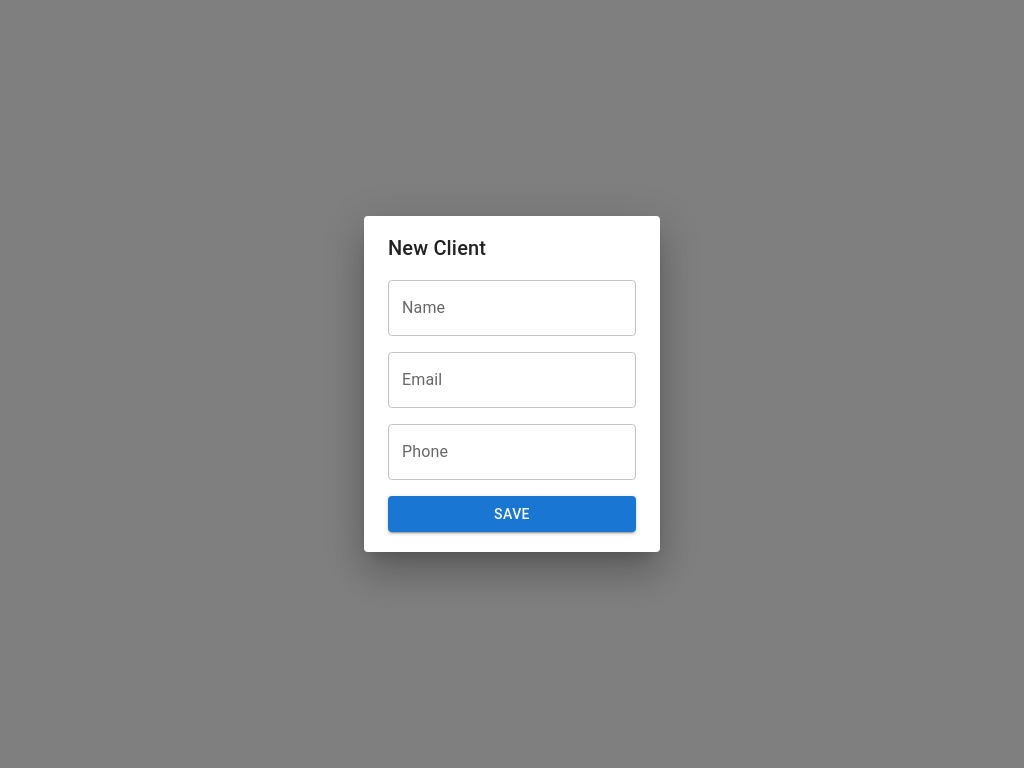
Test case: CreateClientDialog › surfaces an error when the create request fails
The image size is (1024, 768).
Type "Acme Farms" into the field labelled "Name".
click(512, 308); type("Acme Farms")  # box x1=388 y1=280 x2=636 y2=336
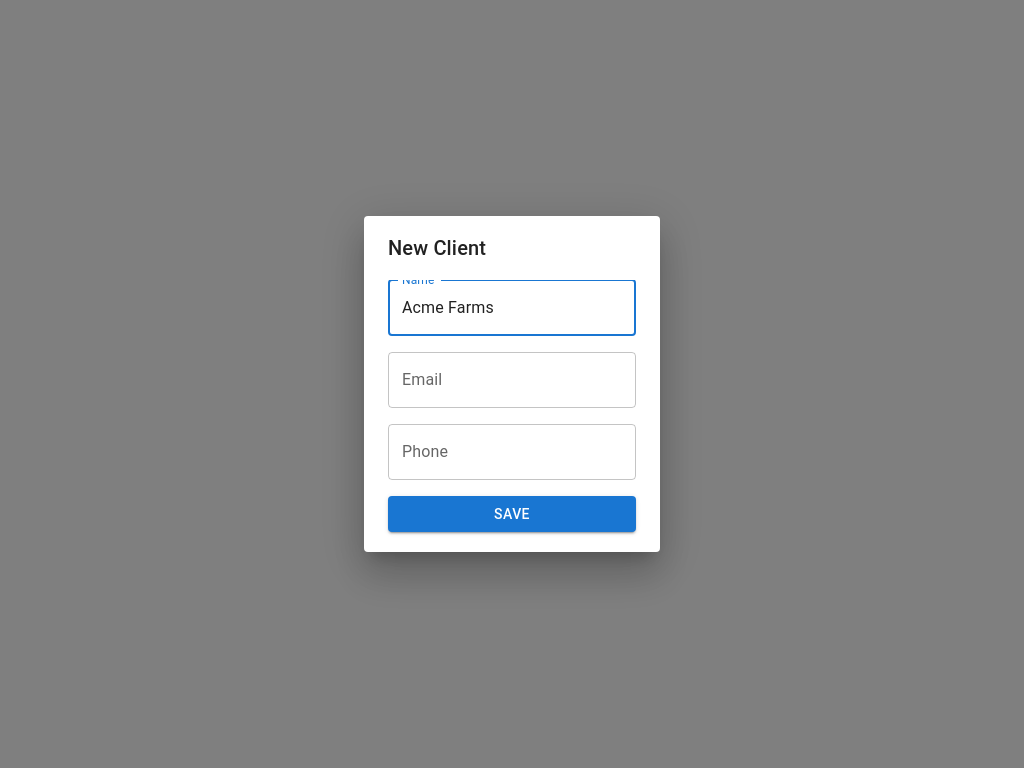
Type "ops@acme.example" into the field labelled "Email".
click(512, 380); type("ops@acme.example")  # box x1=388 y1=352 x2=636 y2=408
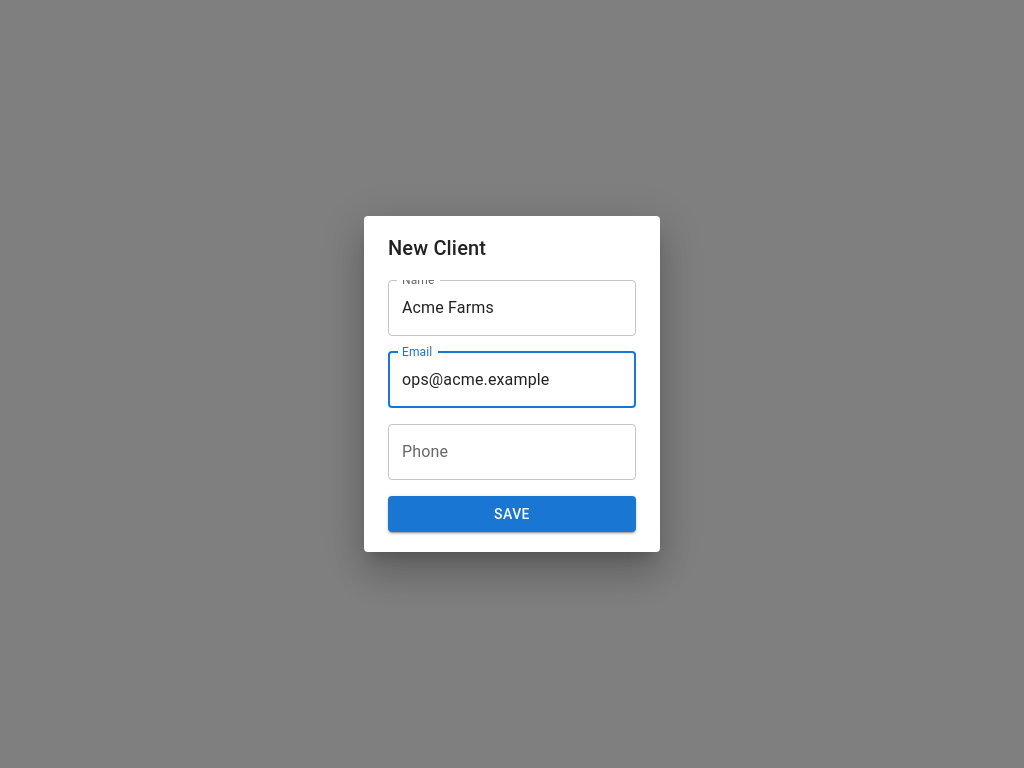
Click the button "Save".
click(512, 514)  # box x1=388 y1=496 x2=636 y2=532
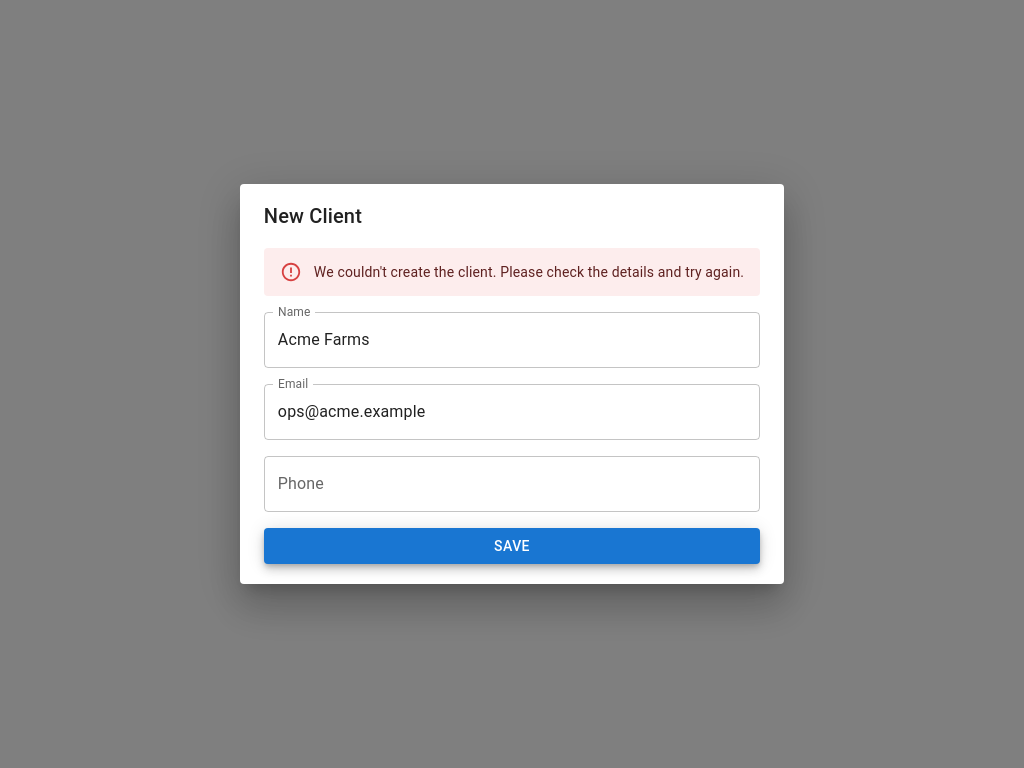
Result: the text "couldn't create the client" is shown at x1=314 y1=264 x2=744 y2=280
